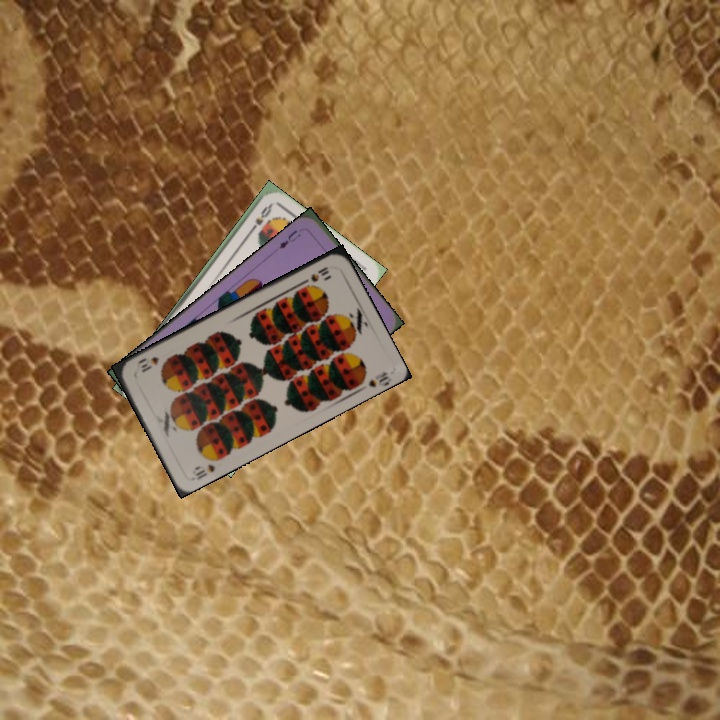EU: (275, 225, 303, 251)
S10: (297, 262, 331, 287), (192, 460, 218, 482)
SO: (245, 201, 274, 236)
